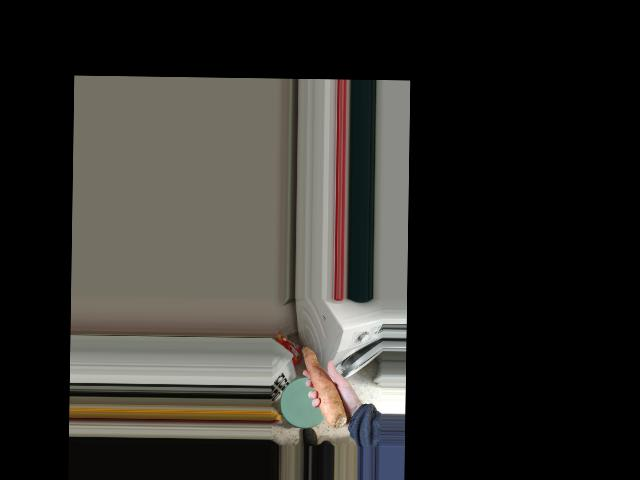sweet_potato: (296, 340, 350, 429)
